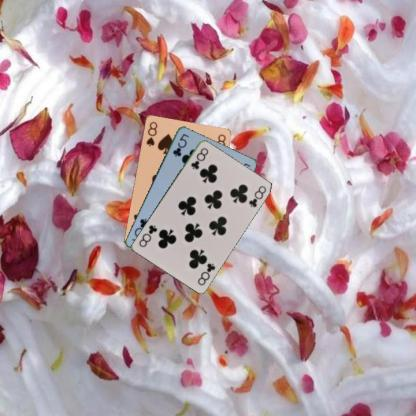5c: (170, 131, 190, 158)
8c: (194, 260, 216, 287), (188, 145, 210, 170)
8s: (144, 119, 158, 147)
